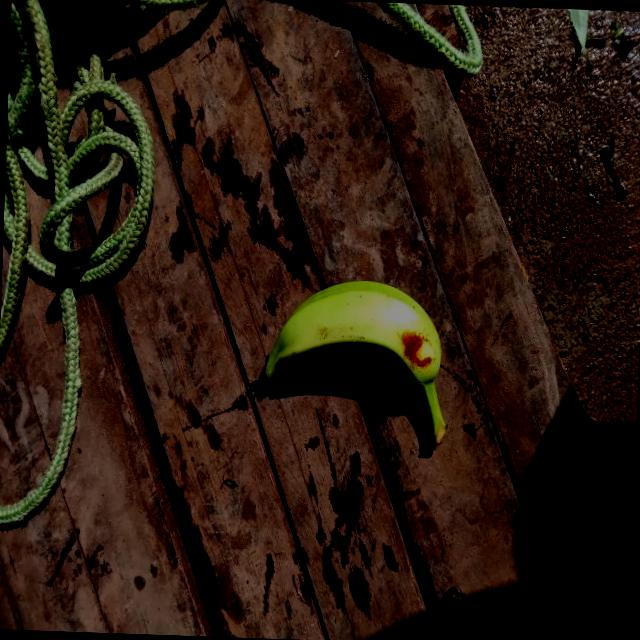Banana: (244, 276, 453, 460)
